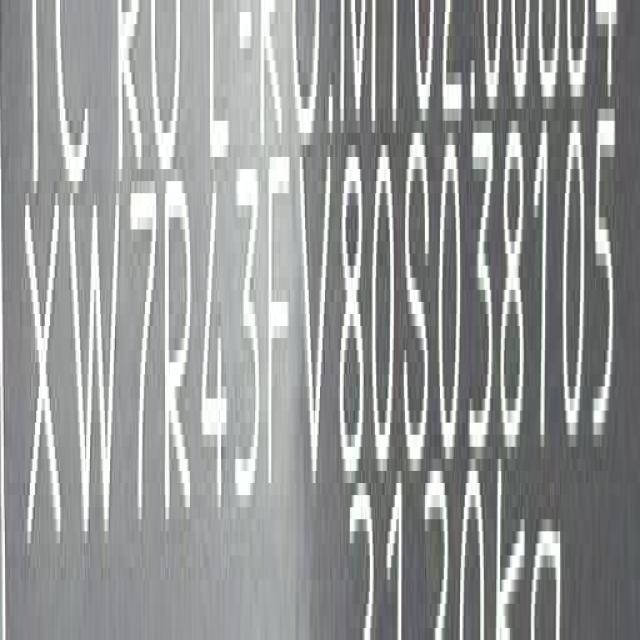0: (436, 127, 464, 463), (559, 116, 586, 458), (371, 133, 397, 476)
1: (532, 116, 552, 453)
3: (235, 163, 262, 526), (470, 115, 497, 460)
4: (202, 169, 231, 531)
5: (594, 110, 622, 452)
7: (128, 186, 160, 546)
8: (339, 141, 368, 478), (502, 122, 528, 458)
F: (267, 143, 292, 501)
R: (163, 187, 196, 540)
S: (402, 130, 434, 467)
V: (298, 143, 334, 501)
W: (64, 190, 120, 559)
X: (25, 196, 62, 562)
